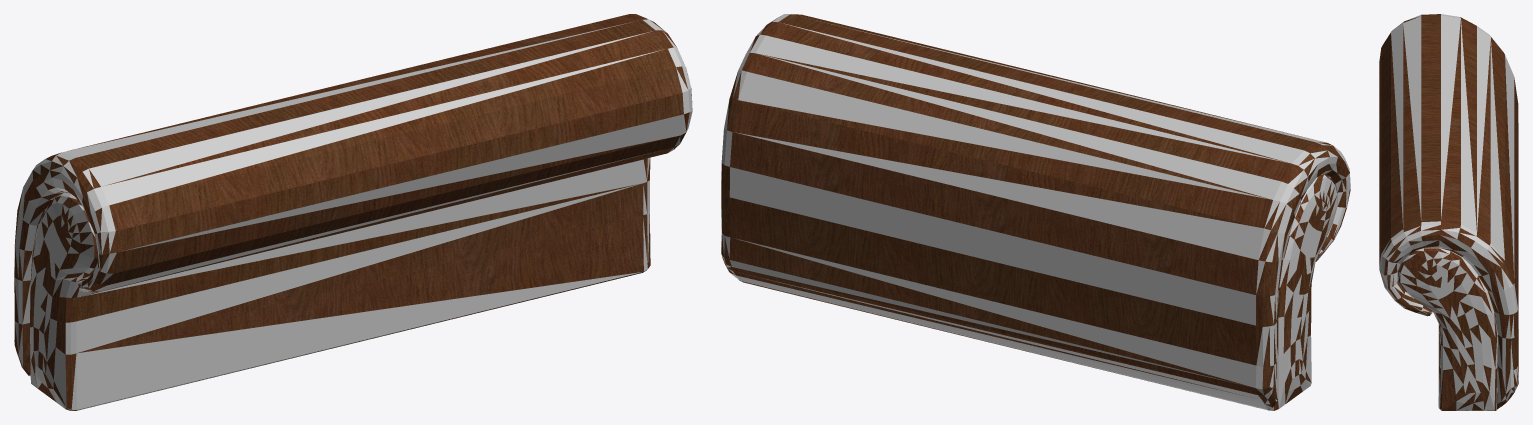
The model's file is left_arm.obj.
3 views of the same model, side by side, from view 1: azimuth 30°, elevation 25°; view 2: azimuth 150°, elevation 25°; view 3: azimuth 270°, elevation 25° (orthographic). The views are drawn at different scales.
Parts seen in each view (by area): view 1: left_arm_mesh25.002_mesh25-geometry; view 2: left_arm_mesh25.002_mesh25-geometry; view 3: left_arm_mesh25.002_mesh25-geometry.
Part boxes in pixels (x1,y1,x2,y2): left_arm_mesh25.002_mesh25-geometry: [14, 14, 692, 410]; left_arm_mesh25.002_mesh25-geometry: [721, 14, 1350, 410]; left_arm_mesh25.002_mesh25-geometry: [1379, 14, 1518, 410].
Bounding box in the file's own units: 0.4031 × 0.1632 × 0.1097.
